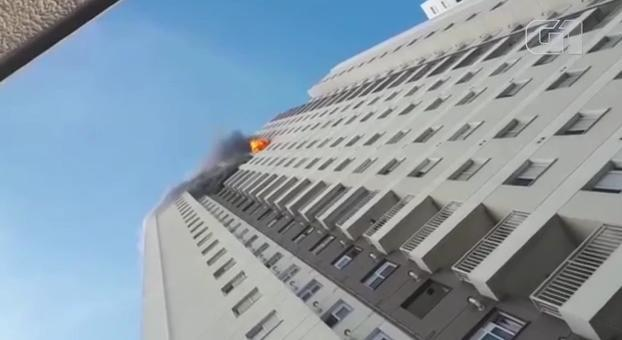Fire: (249, 136, 275, 156)
Smoke: (161, 129, 249, 195)
